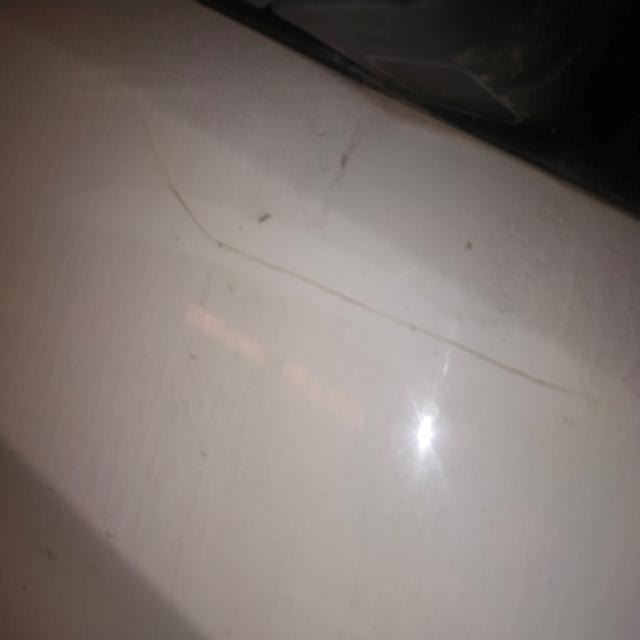damage: (126, 88, 604, 426)
